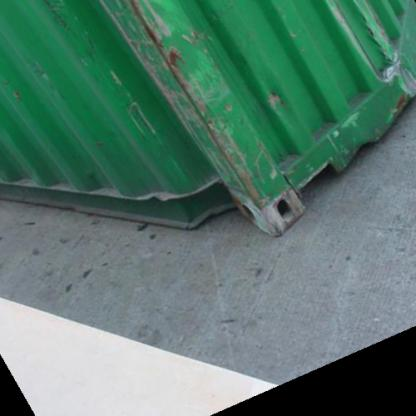Damage: (116, 21, 282, 210), (326, 12, 410, 118)
